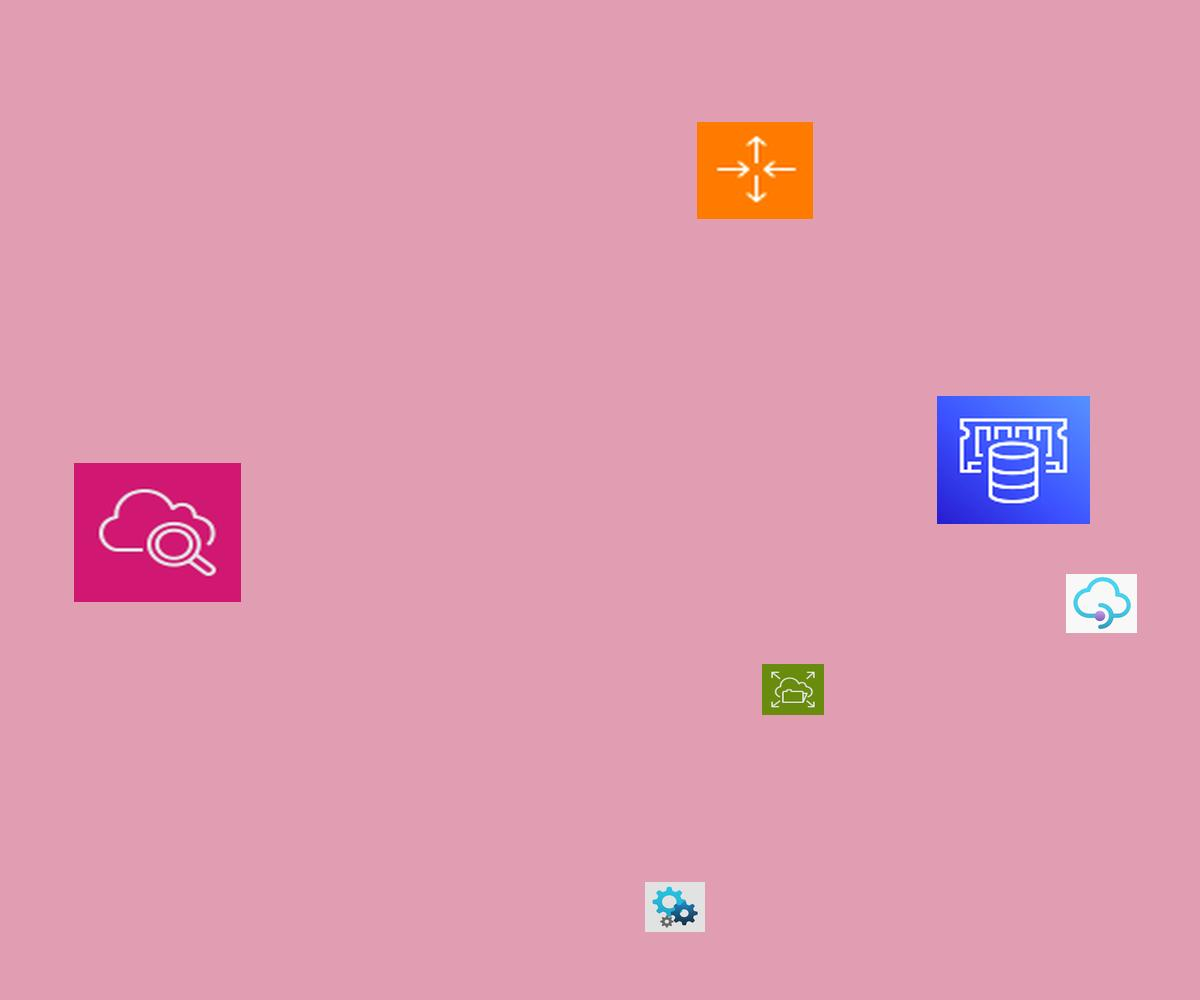AWS-CloudWatch: (74, 463, 241, 602)
AWS-EFS: (762, 664, 824, 715)
AWS-ElastiCache: (937, 396, 1090, 524)
AWS-Scaling-group: (697, 122, 813, 219)
Azure_api: (645, 882, 705, 932)
Azure_api_gateway: (1066, 574, 1137, 633)
